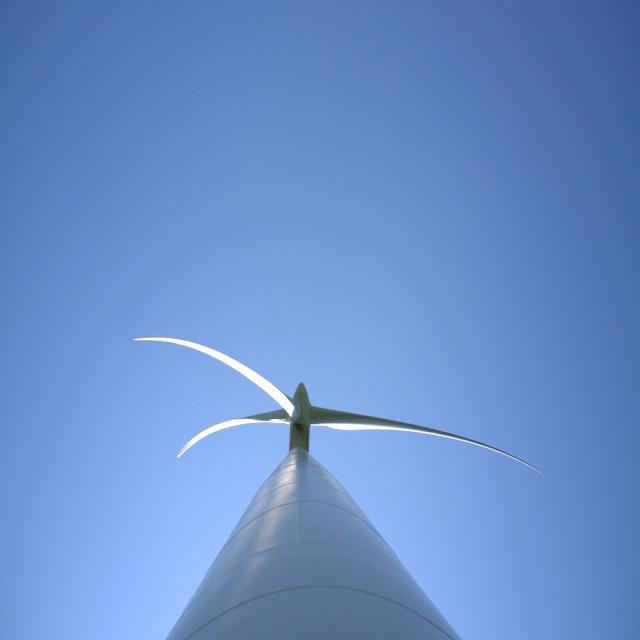blade 1: (126, 317, 272, 385)
blade 2: (336, 399, 527, 478)
blade 3: (87, 398, 278, 452)
